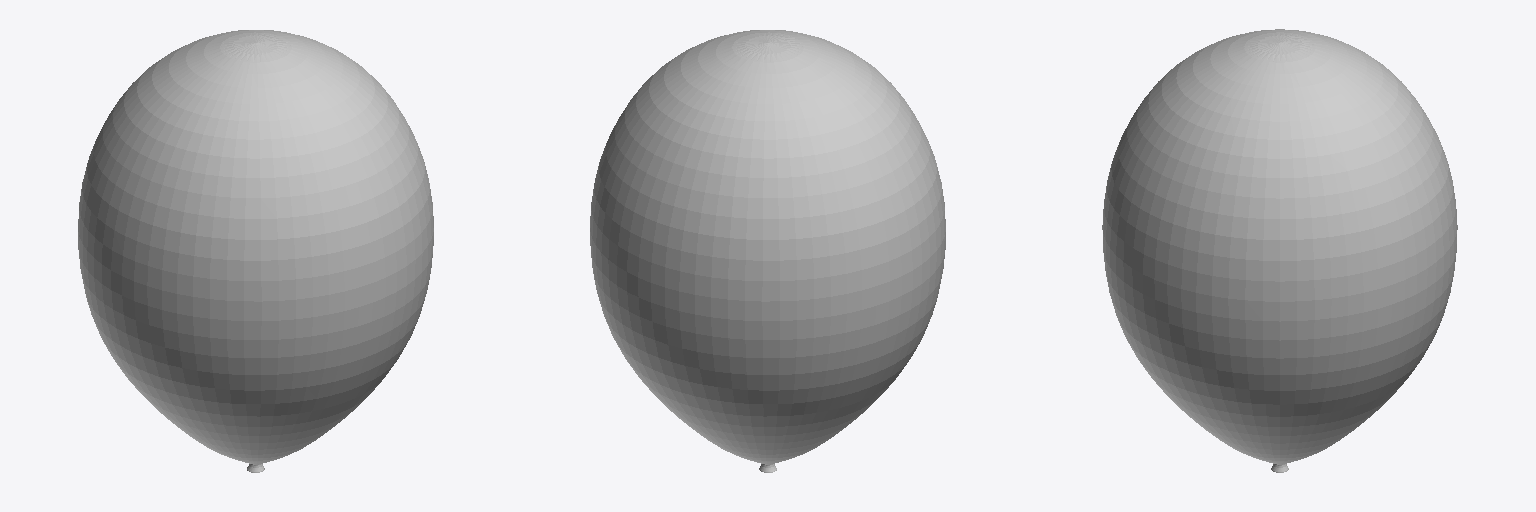
Rendered from Globo7.obj.
3 views of the same model, side by side, from view 1: azimuth 30°, elevation 25°; view 2: azimuth 150°, elevation 25°; view 3: azimuth 270°, elevation 25° (orthographic).
Parts seen in each view (by area): view 1: Sphere.005; view 2: Sphere.005; view 3: Sphere.005.
Part boxes in pixels (x1,y1,x2,y2): Sphere.005: (78, 30, 433, 472); Sphere.005: (590, 30, 945, 472); Sphere.005: (1102, 29, 1457, 472).
Size of the model in its own units: 0.5211 by 0.688 by 0.519.